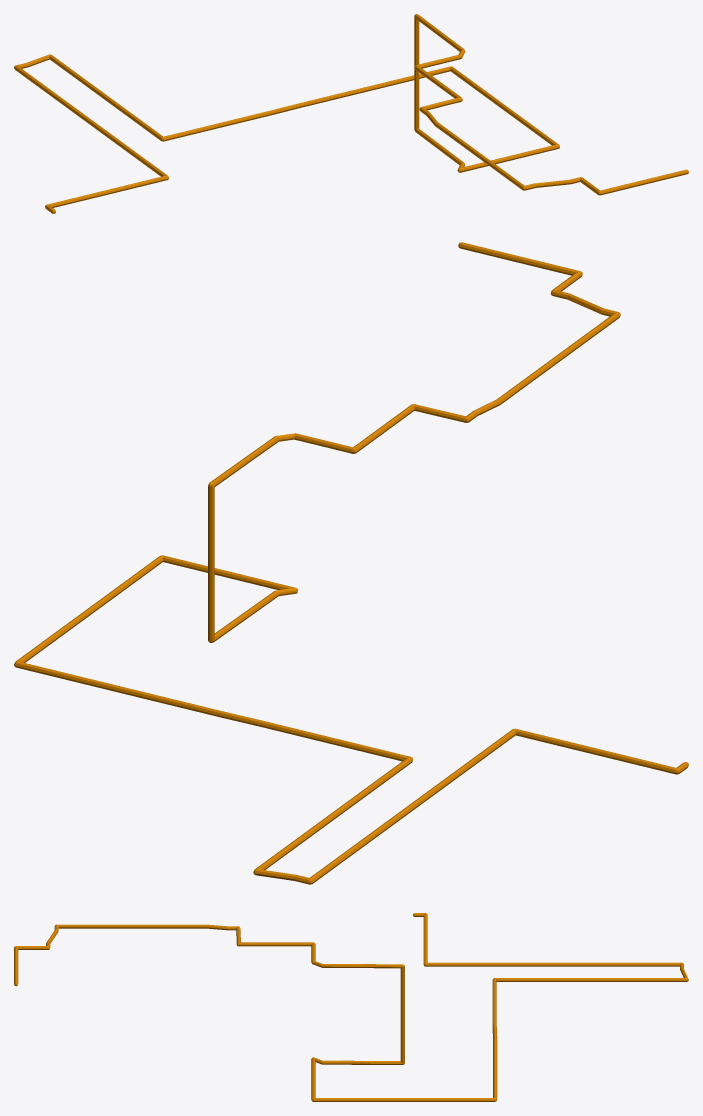
3 renders of one model, top to bottom at view 1: azimuth 30°, elevation 25°; view 2: azimuth 150°, elevation 25°; view 3: azimuth 270°, elevation 25°, orthographic. The views are drawn at different scales.
Bounding box in the file's own units: 2068 × 520 × 3160.
